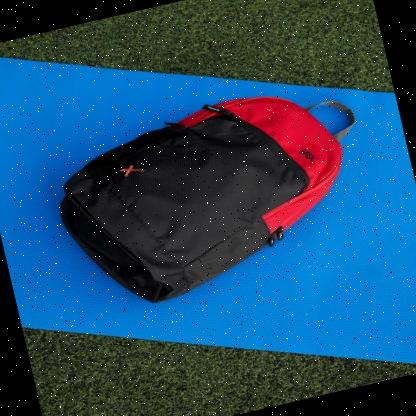bag: (36, 61, 389, 324)
